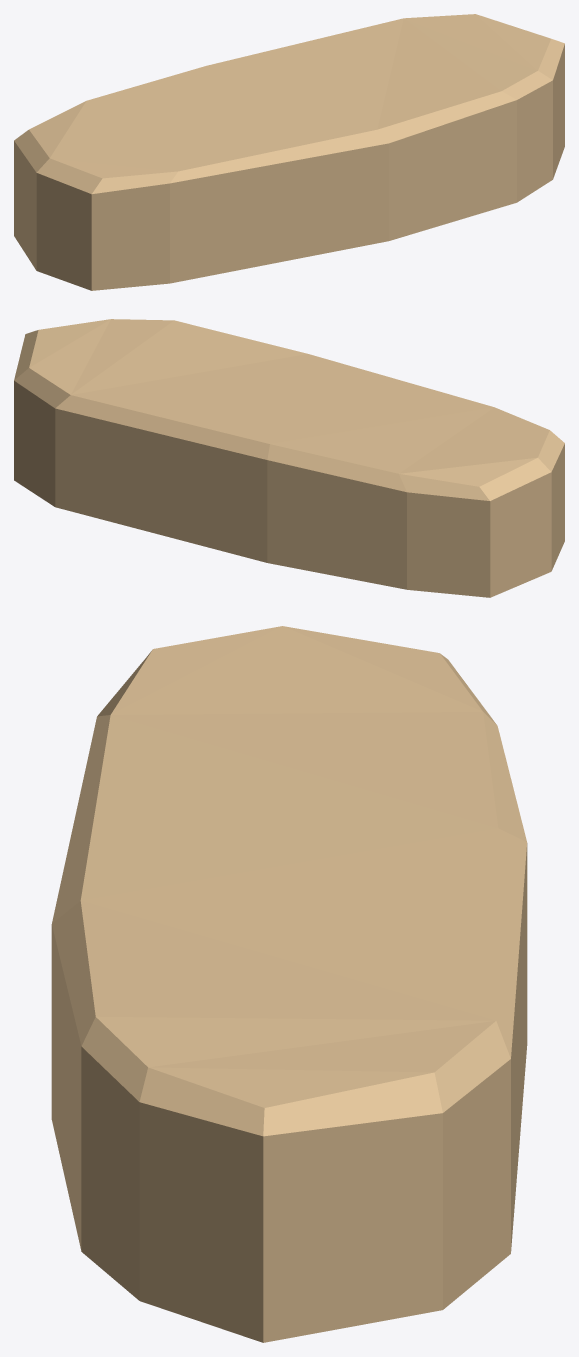
File: terrace_stone_long.fbx
The picture shows the model from 3 angles, top to bottom: view 1: azimuth 30°, elevation 25°; view 2: azimuth 150°, elevation 25°; view 3: azimuth 270°, elevation 25°; orthographic projection. The views are drawn at different scales.
Parts seen in each view (by area): view 1: Terrace_Stone_Long; view 2: Terrace_Stone_Long; view 3: Terrace_Stone_Long.
Part boxes in pixels (x1,y1,x2,y2): Terrace_Stone_Long: [14, 14, 564, 290]; Terrace_Stone_Long: [14, 319, 564, 597]; Terrace_Stone_Long: [51, 626, 527, 1342].
Bounding box in the file's own units: 98.28 × 20.19 × 38.63.
